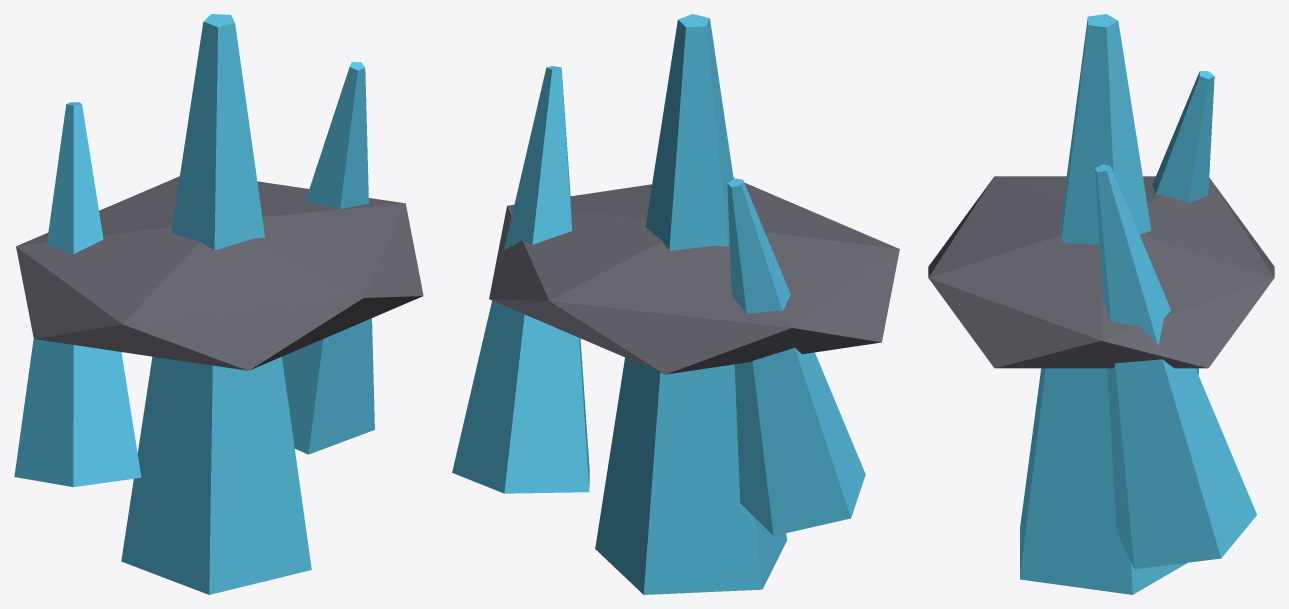
Rendered from crystal_cluster.glb.
The picture shows the model from 3 angles, left to right: view 1: azimuth 30°, elevation 25°; view 2: azimuth 150°, elevation 25°; view 3: azimuth 270°, elevation 25°; orthographic projection.
Parts seen in each view (by area): view 1: crystal_cluster; view 2: crystal_cluster; view 3: crystal_cluster.
Part boxes in pixels (<box>): crystal_cluster: <box>14,14,423,594</box>; crystal_cluster: <box>452,14,899,594</box>; crystal_cluster: <box>928,14,1274,594</box>.
Size of the model in its own units: 0.5116 by 0.7 by 0.4117.
